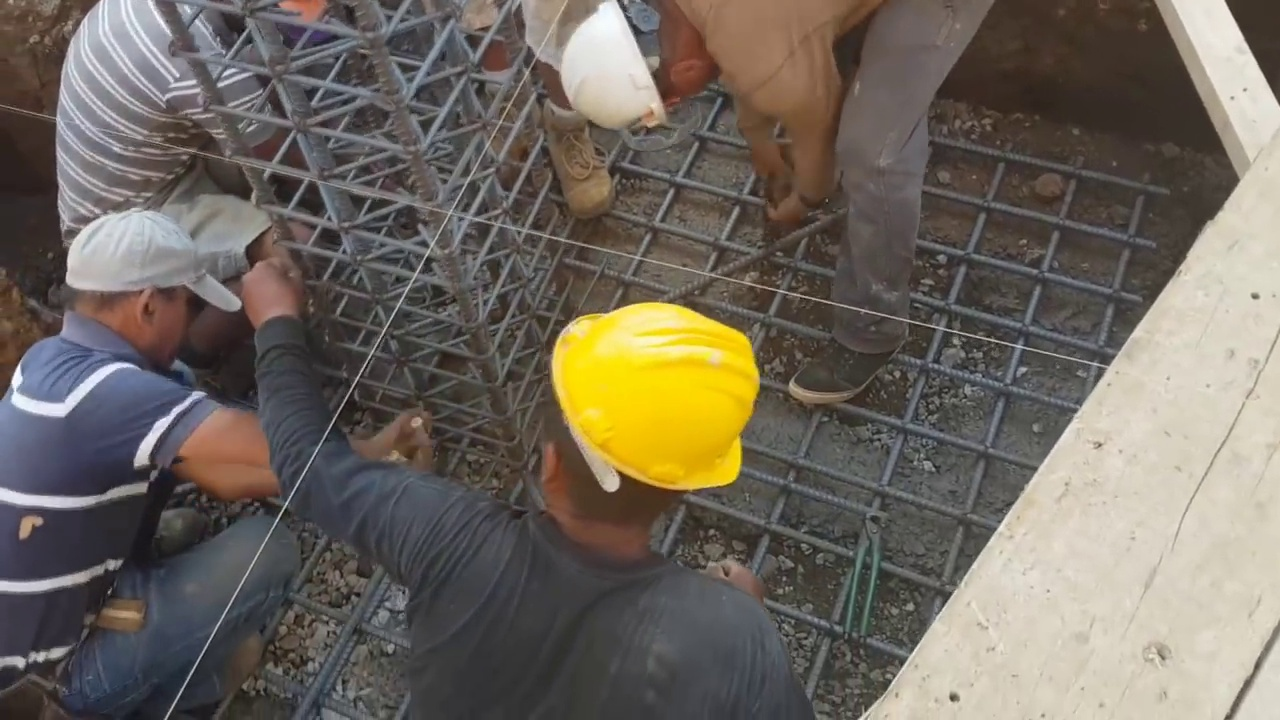helmet: (550, 296, 760, 489), (560, 4, 660, 128)
helmet-off: (54, 208, 226, 374)
helmet-on: (518, 298, 755, 569), (560, 4, 728, 132)
person: (242, 261, 817, 713), (0, 209, 444, 714), (560, 7, 1005, 408), (49, 0, 332, 278), (445, 3, 626, 268)
